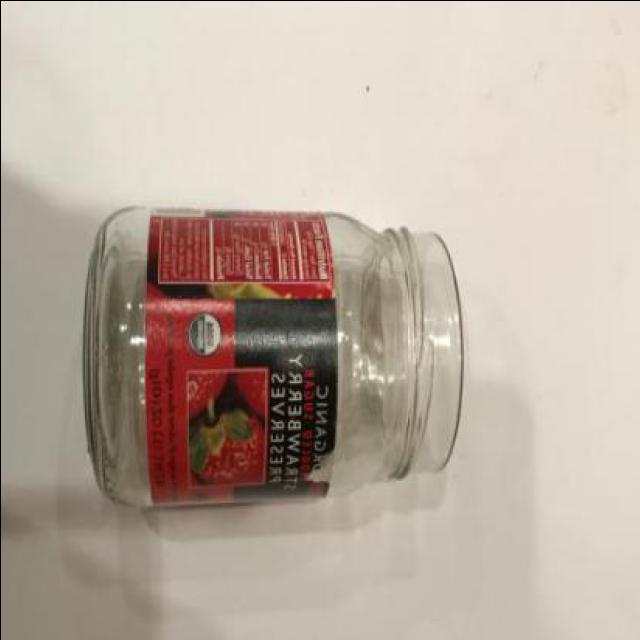kaca: (82, 210, 464, 503)
